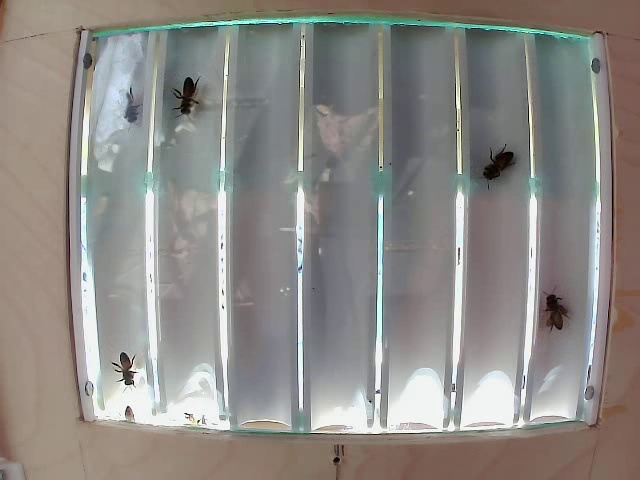bee: (109, 337, 149, 390), (535, 283, 572, 335), (481, 130, 511, 188), (111, 84, 145, 129), (174, 80, 204, 124)
